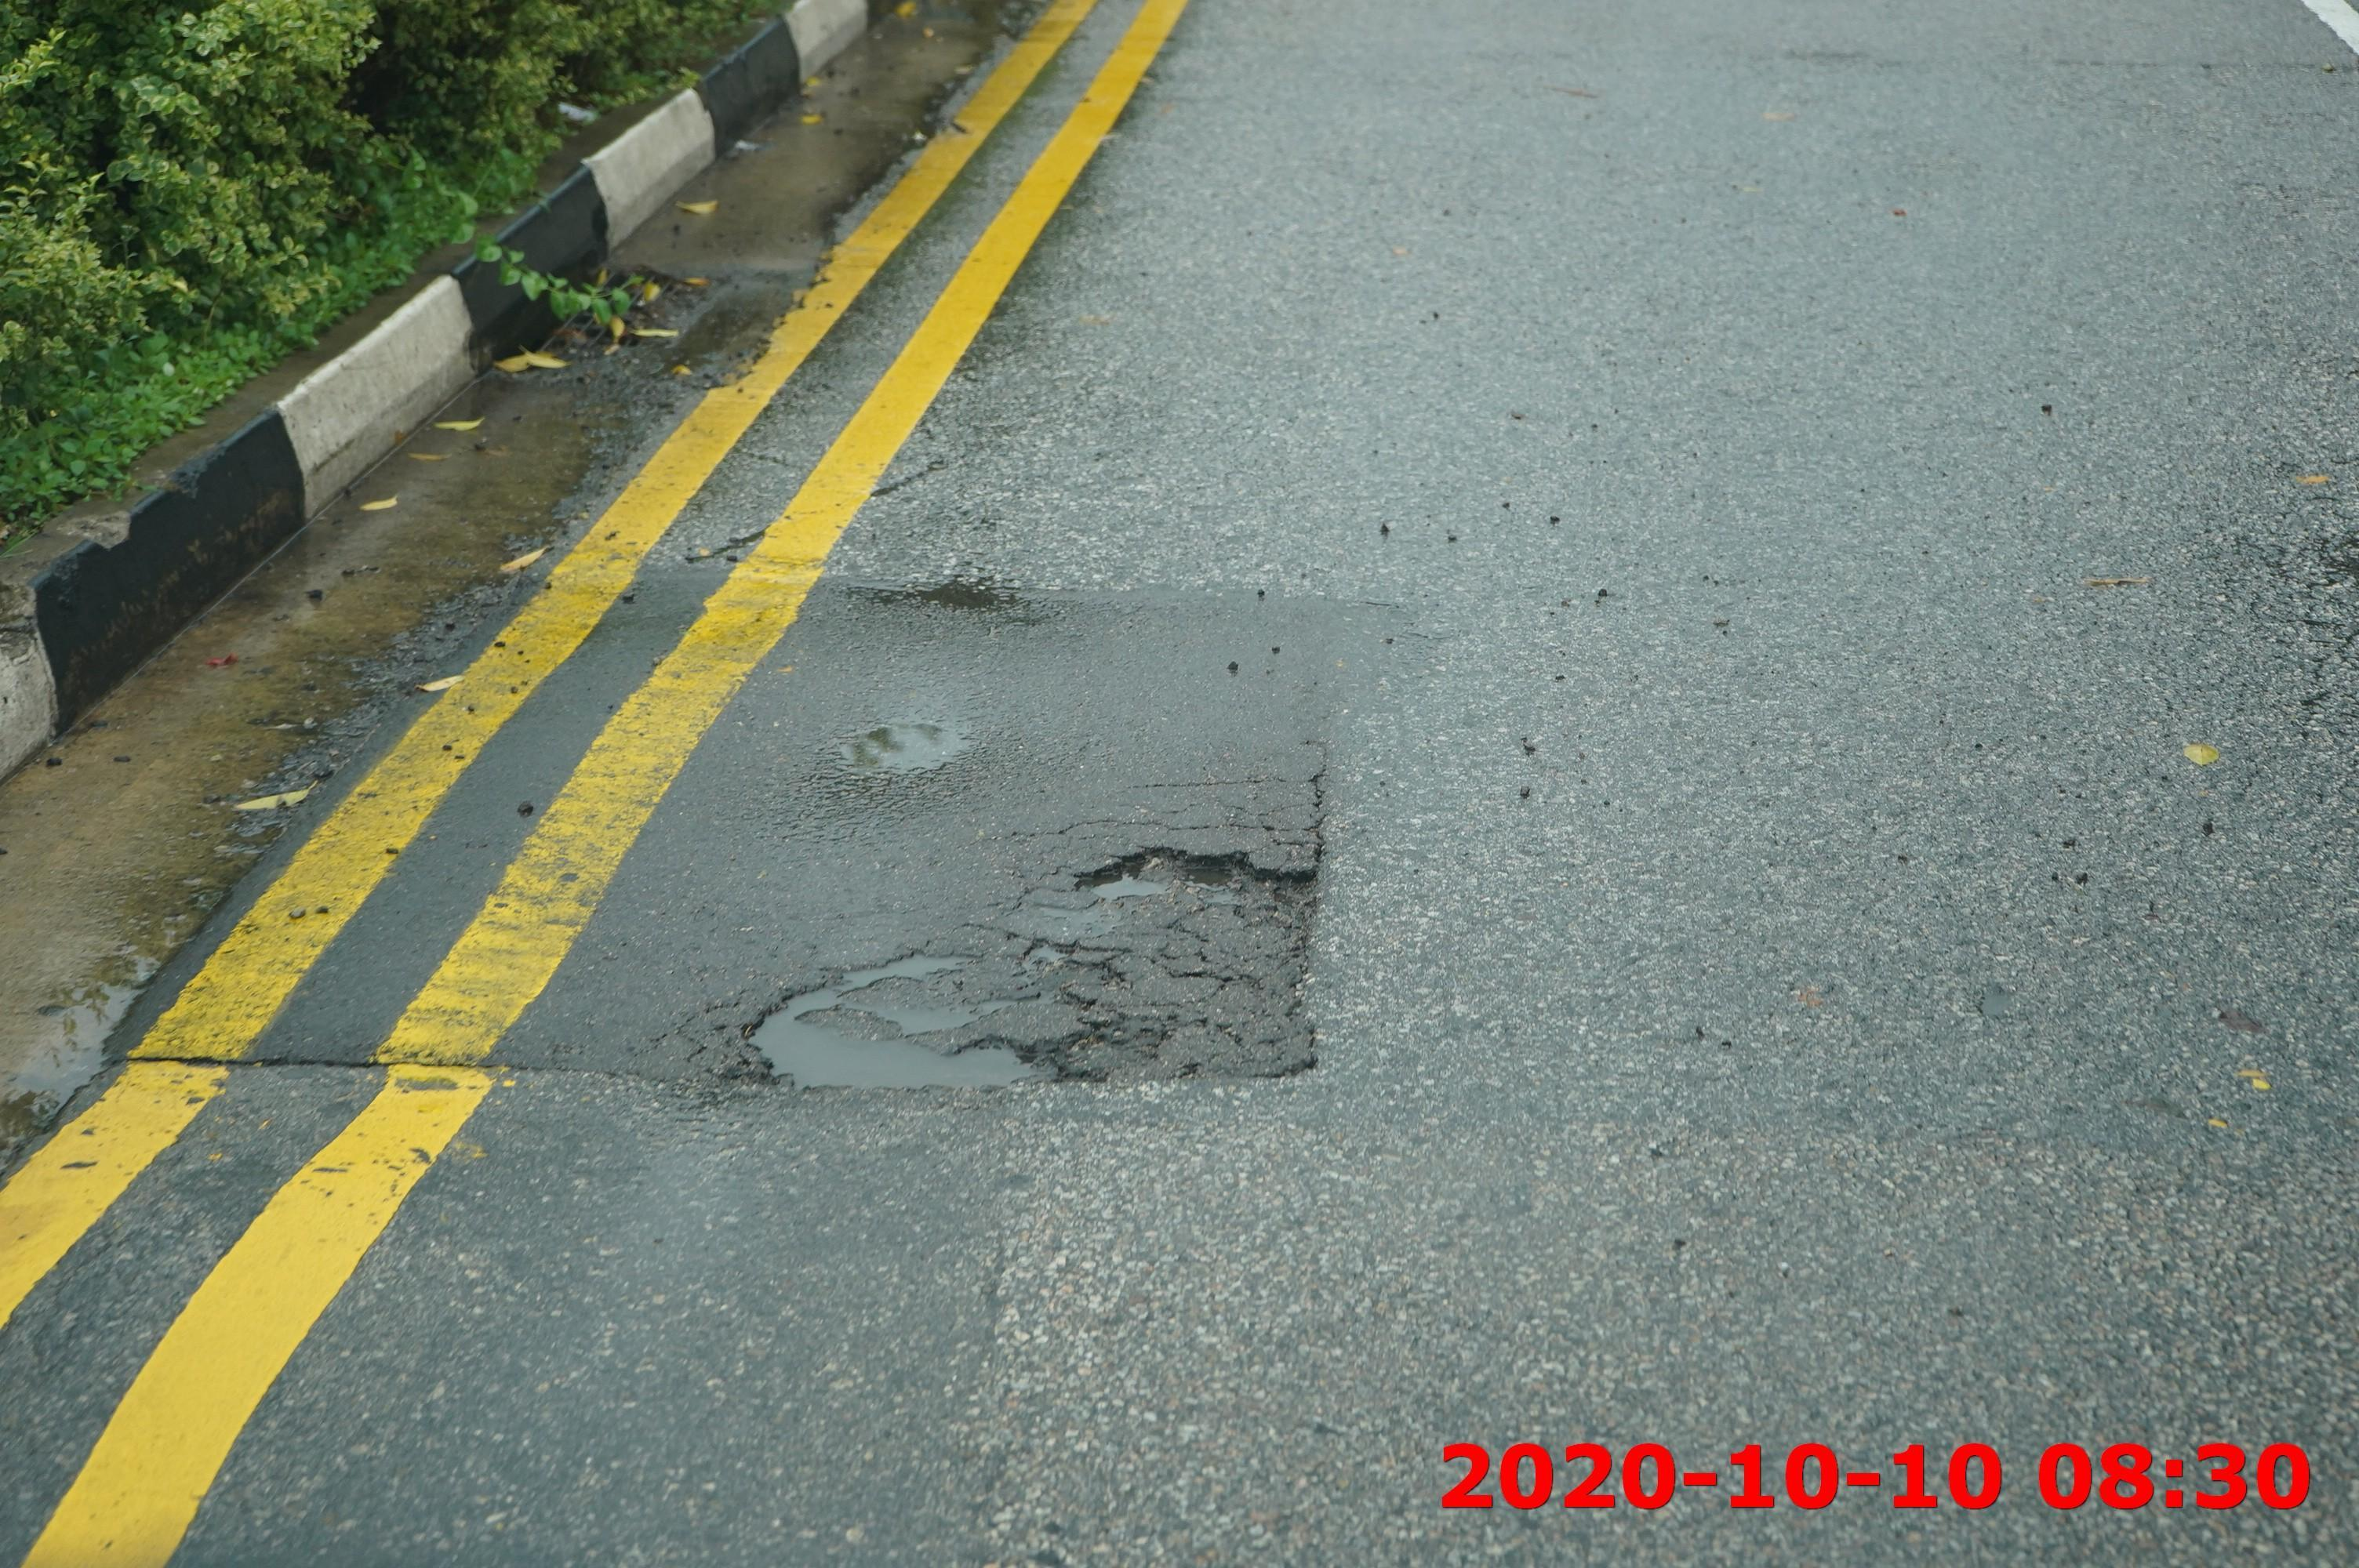pothole with crack: (674, 940, 1095, 1099), (1031, 829, 1335, 912)
